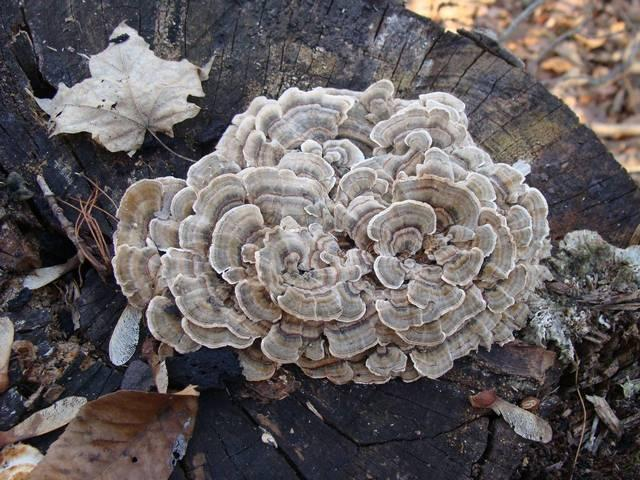poisonous_mushroom: (108, 78, 553, 388)
